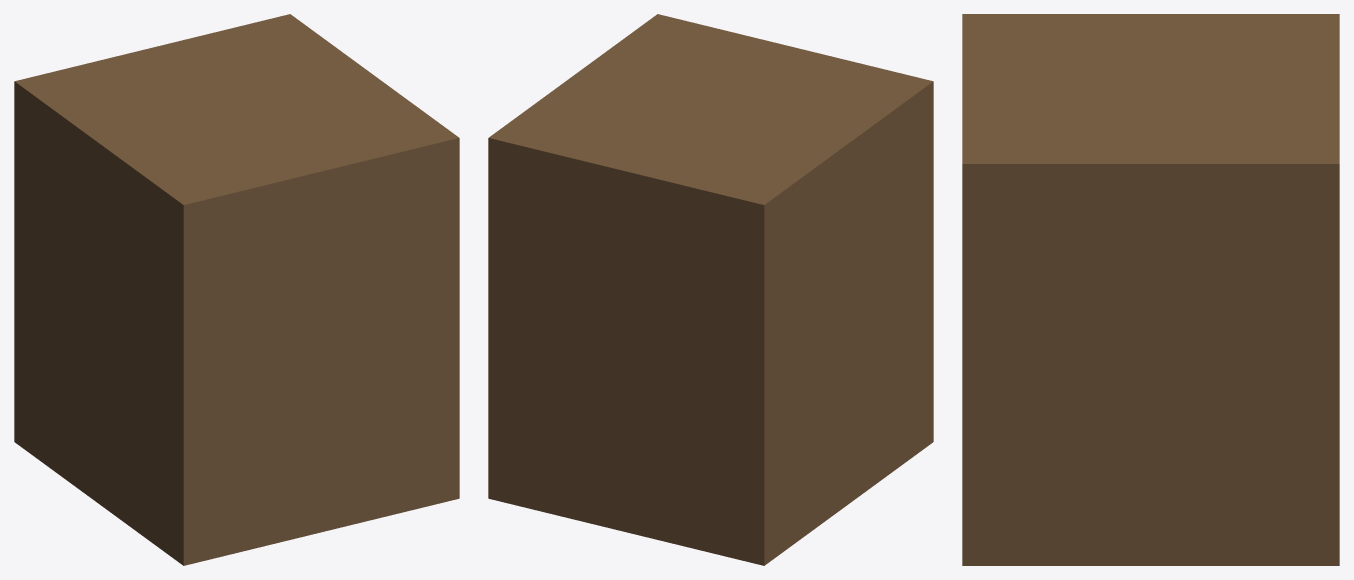
File: nightstand.glb
3 renders of one model, left to right at view 1: azimuth 30°, elevation 25°; view 2: azimuth 150°, elevation 25°; view 3: azimuth 270°, elevation 25°, orthographic. The views are drawn at different scales.
Parts seen in each view (by area): view 1: REF-L04-R01-nightstand-part-1; view 2: REF-L04-R01-nightstand-part-1; view 3: REF-L04-R01-nightstand-part-1.
Part boxes in pixels (x1,y1,x2,y2): REF-L04-R01-nightstand-part-1: [14, 14, 459, 565]; REF-L04-R01-nightstand-part-1: [488, 14, 933, 565]; REF-L04-R01-nightstand-part-1: [962, 14, 1339, 565].
Size of the model in its own units: 0.16 by 0.2 by 0.17.
